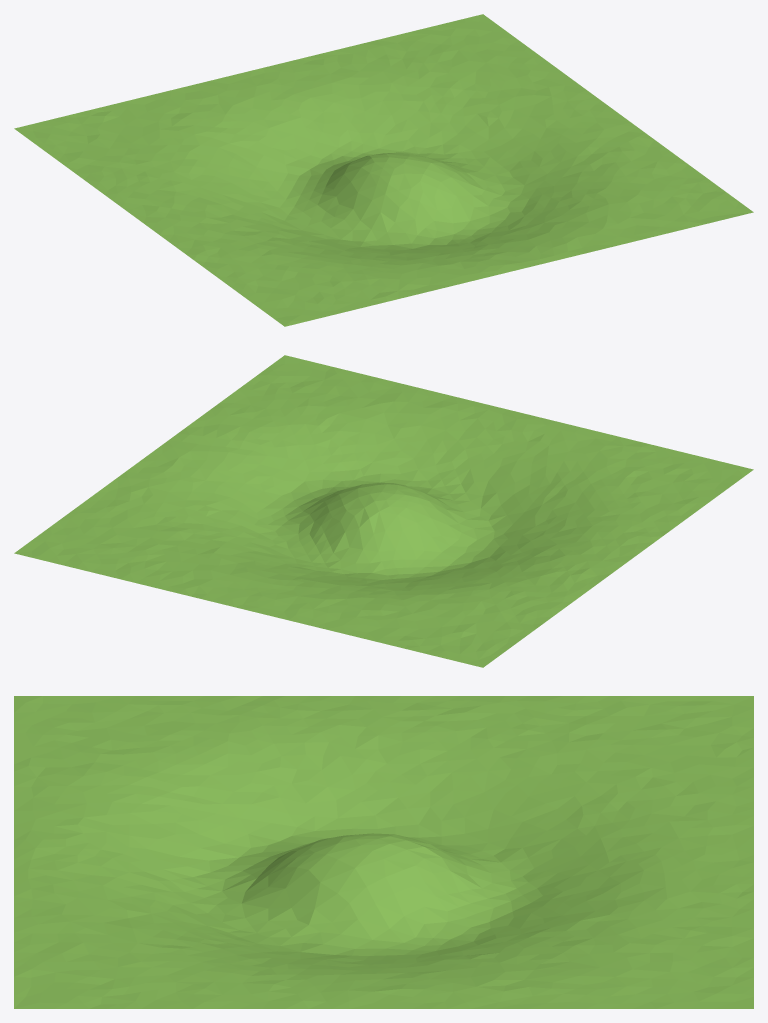
Rendered from MT_Terrain_L_b_07_LOD.fbx.
3 renders of one model, top to bottom at view 1: azimuth 30°, elevation 25°; view 2: azimuth 150°, elevation 25°; view 3: azimuth 270°, elevation 25°, orthographic. The views are drawn at different scales.
Visible parts, largest first — view 1: MT_Terrain_L_b_07_LOD0; view 2: MT_Terrain_L_b_07_LOD0; view 3: MT_Terrain_L_b_07_LOD0.
Boxes of the visible parts, x1=… form: MT_Terrain_L_b_07_LOD0: x1=14, y1=14, x2=753, y2=326; MT_Terrain_L_b_07_LOD0: x1=14, y1=355, x2=753, y2=667; MT_Terrain_L_b_07_LOD0: x1=14, y1=696, x2=753, y2=1008.
Size of what is drawn, in the model's own units: 10000 by 757 by 10000.
